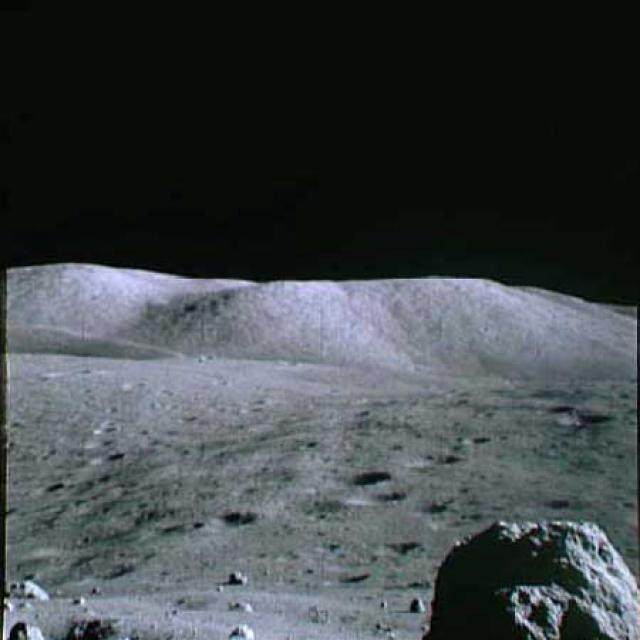crater: (166, 506, 266, 536), (342, 491, 416, 512), (338, 462, 389, 488), (515, 397, 572, 418), (410, 448, 463, 469), (556, 414, 617, 432)
rock: (416, 504, 638, 638), (11, 568, 49, 599), (9, 615, 50, 639), (218, 618, 260, 638), (224, 595, 256, 617), (227, 563, 251, 587)
